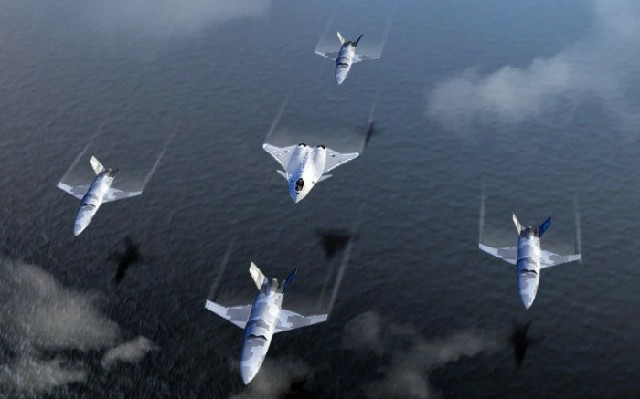maybay_khongnguoilai: (208, 261, 328, 388), (476, 207, 577, 305), (58, 155, 136, 236), (262, 139, 355, 202), (317, 27, 383, 93)
